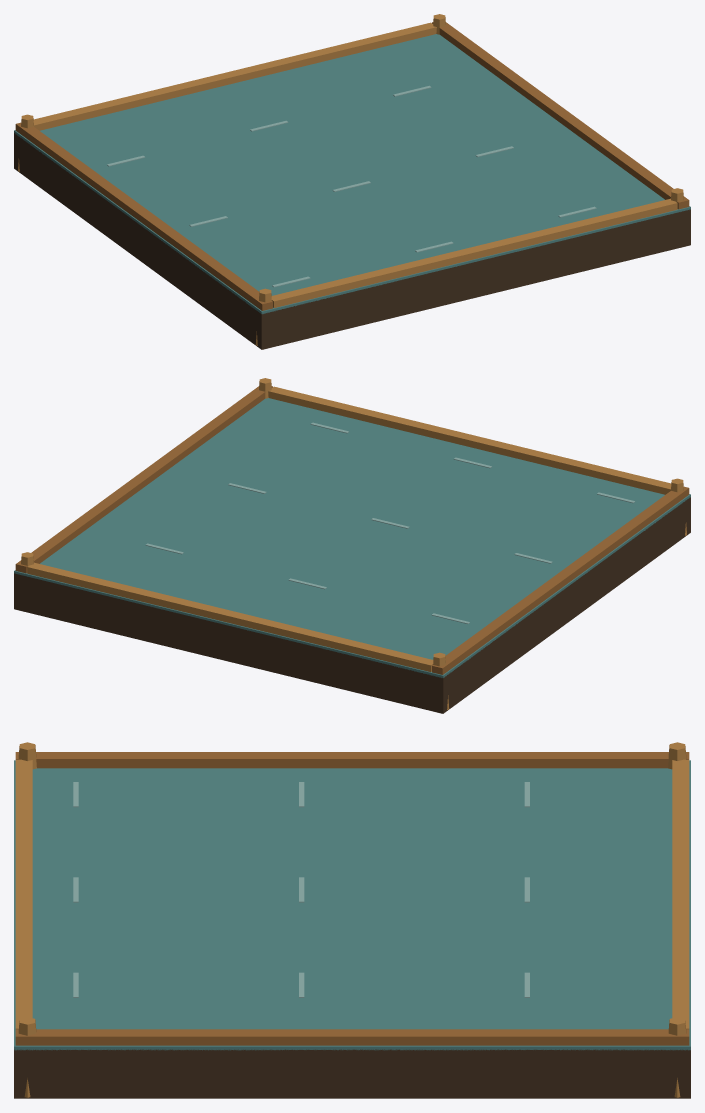
Rendered from farm-cell-bed-water.gltf.
3 views of the same model, one above another, from view 1: azimuth 30°, elevation 25°; view 2: azimuth 150°, elevation 25°; view 3: azimuth 270°, elevation 25° (orthographic). The views are drawn at different scales.
Visible parts, largest first — view 1: farm-cell-bed-water; view 2: farm-cell-bed-water; view 3: farm-cell-bed-water.
Boxes of the visible parts, x1=… form: farm-cell-bed-water: x1=14, y1=14, x2=690, y2=349; farm-cell-bed-water: x1=14, y1=378, x2=690, y2=713; farm-cell-bed-water: x1=14, y1=742, x2=690, y2=1098.
Size of the model in its own units: 2.01 by 0.235 by 2.
